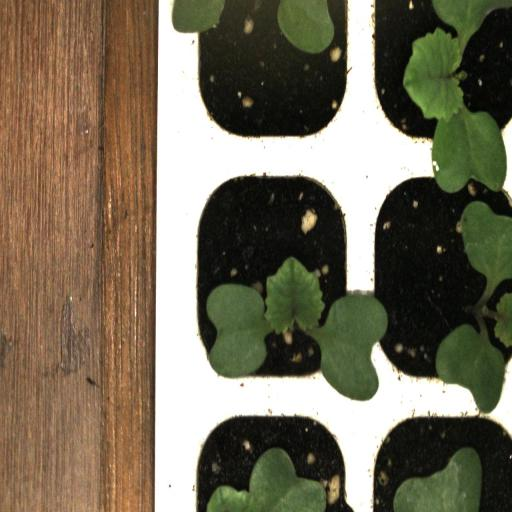Folha: (206, 447, 327, 512), (393, 447, 482, 512), (460, 201, 512, 295), (257, 0, 336, 55), (172, 0, 225, 34)
Germinacao: (176, 157, 363, 401), (362, 156, 512, 401), (360, 0, 511, 168)
